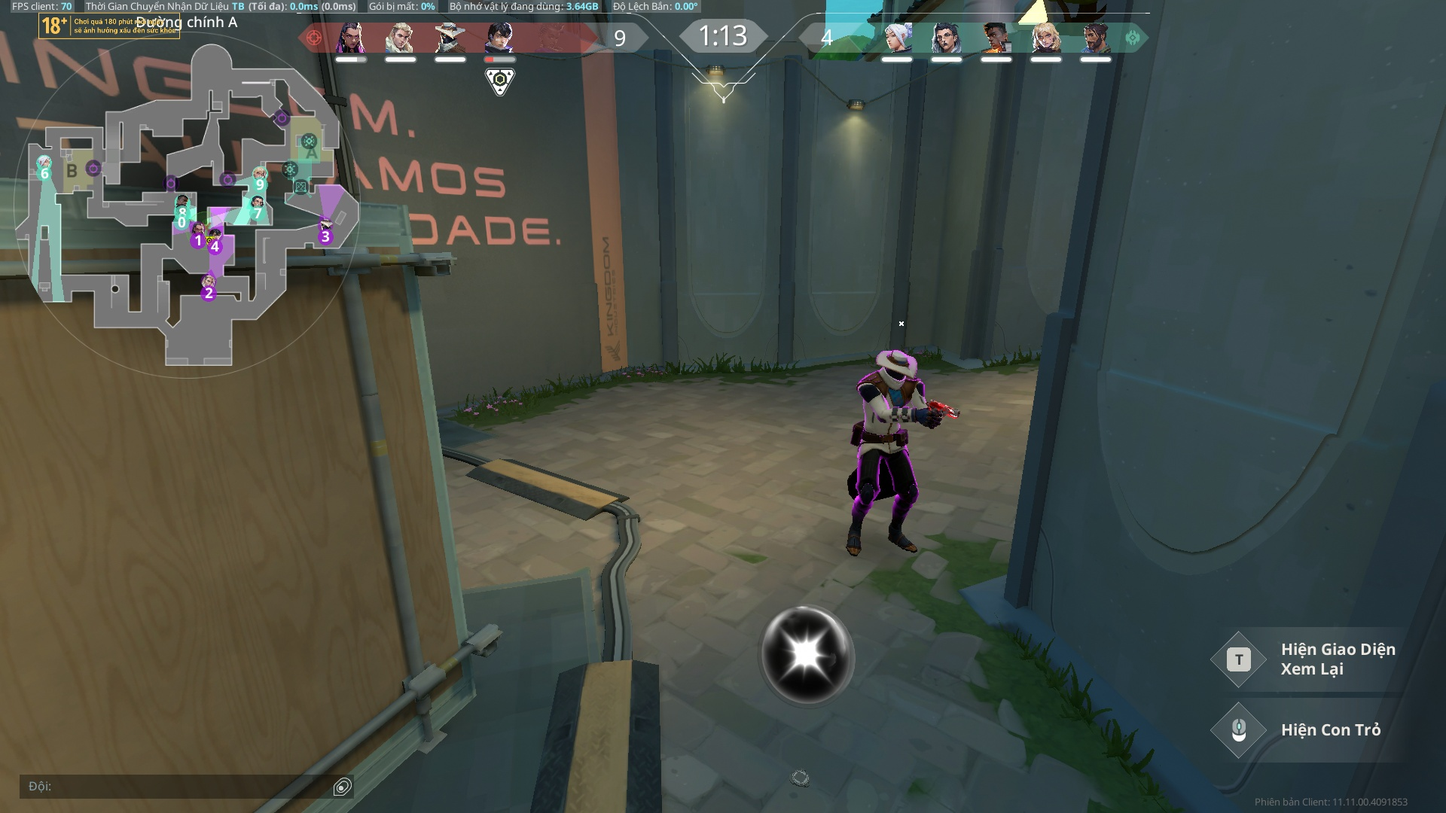body: (859, 371, 929, 440)
head: (883, 352, 911, 379)
